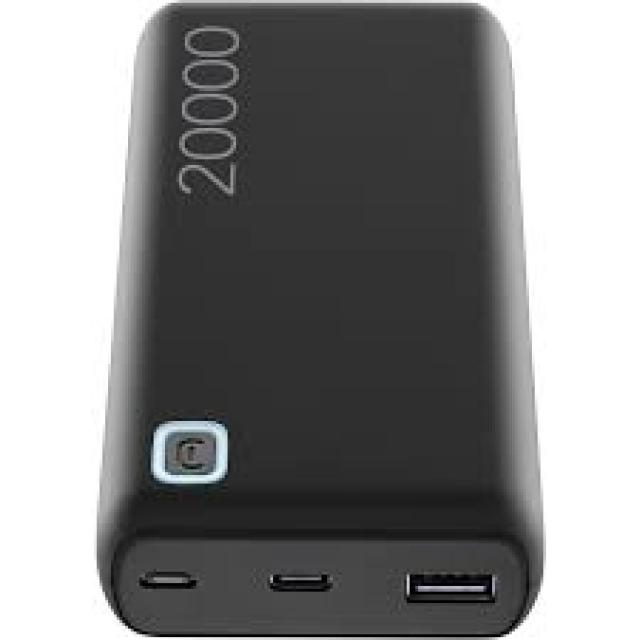power_bank: (88, 0, 546, 640)
